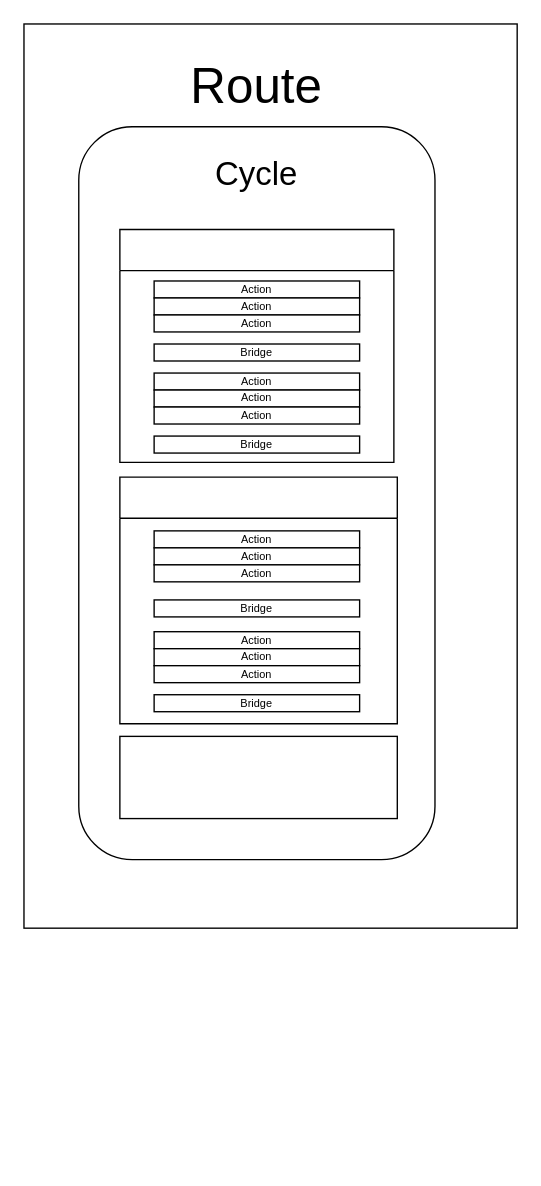
The diagram is 541 pixels wide and 1186 high, and some of its shapes have lost their labels. Each missing label, with the box of its shape:
Airdrop Run: (119, 476, 397, 724)
Houdini to another wallet: (119, 735, 397, 819)
Legacy Run: (119, 228, 394, 462)
